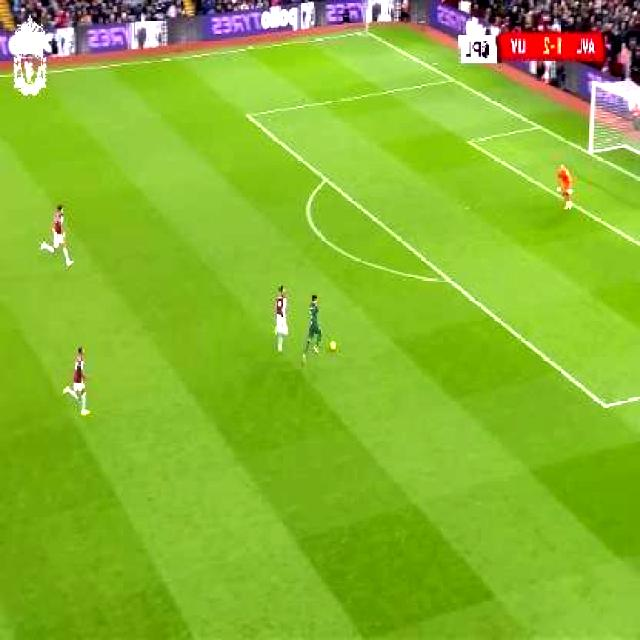bigarea_bottom_inner: (597, 389, 617, 420)
bigarea_top_inner: (241, 103, 257, 125)
bigarea_top_outter: (444, 69, 462, 88)
bottom_arc_area_intersection: (440, 266, 460, 291)
corner: (357, 24, 375, 38)
smallarea_top_inner: (462, 129, 480, 151)
smallarea_top_outter: (531, 116, 549, 136)
top_arc_area_intersection: (318, 168, 336, 188)
